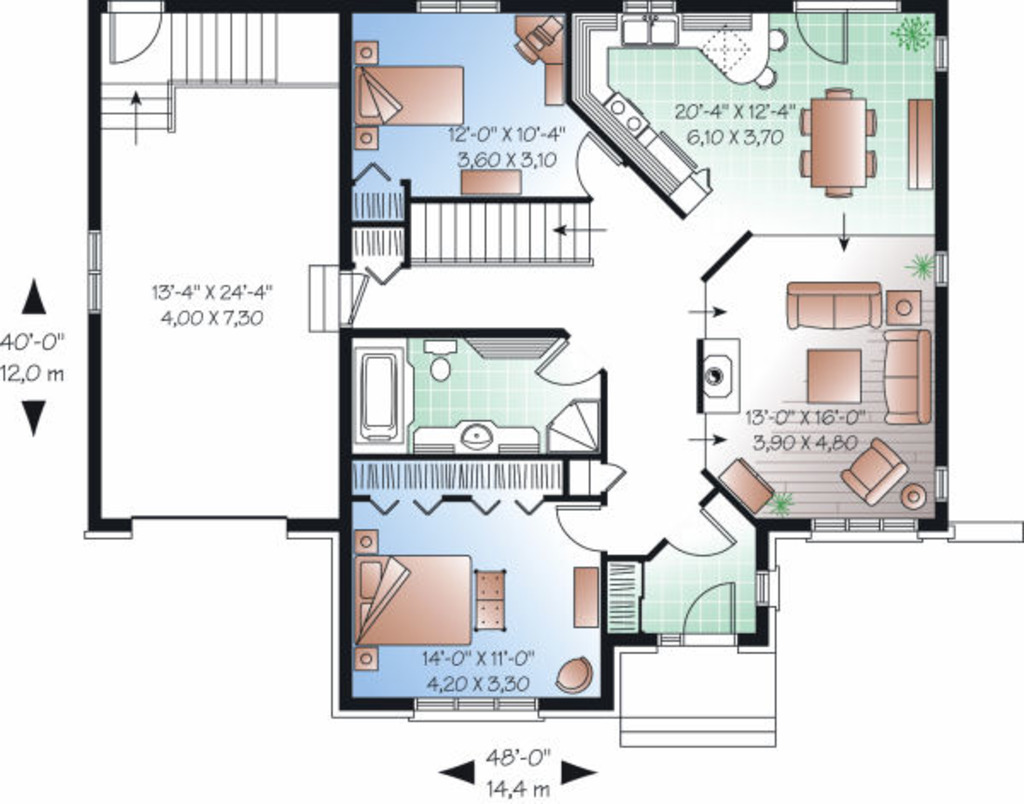bed: (350, 554, 478, 651), (345, 66, 479, 131)
dining_table: (791, 88, 885, 196)
door: (654, 500, 739, 566), (535, 330, 609, 385), (679, 580, 741, 645), (794, 4, 859, 66), (568, 129, 625, 198), (554, 500, 613, 554)
kitchen_bar: (688, 9, 788, 104)
large_sink: (418, 339, 466, 393)
large_sofa: (773, 276, 886, 336), (883, 329, 935, 425)
small_sink: (439, 418, 498, 456)
small_sofa: (820, 436, 913, 505)
stairs: (98, 6, 343, 151), (405, 198, 595, 269)
tub: (348, 338, 414, 451)
twin_sink: (616, 4, 685, 50)
window: (410, 698, 549, 731), (800, 514, 925, 546), (84, 233, 108, 318), (415, 1, 508, 18), (929, 249, 956, 293), (929, 33, 955, 75)
